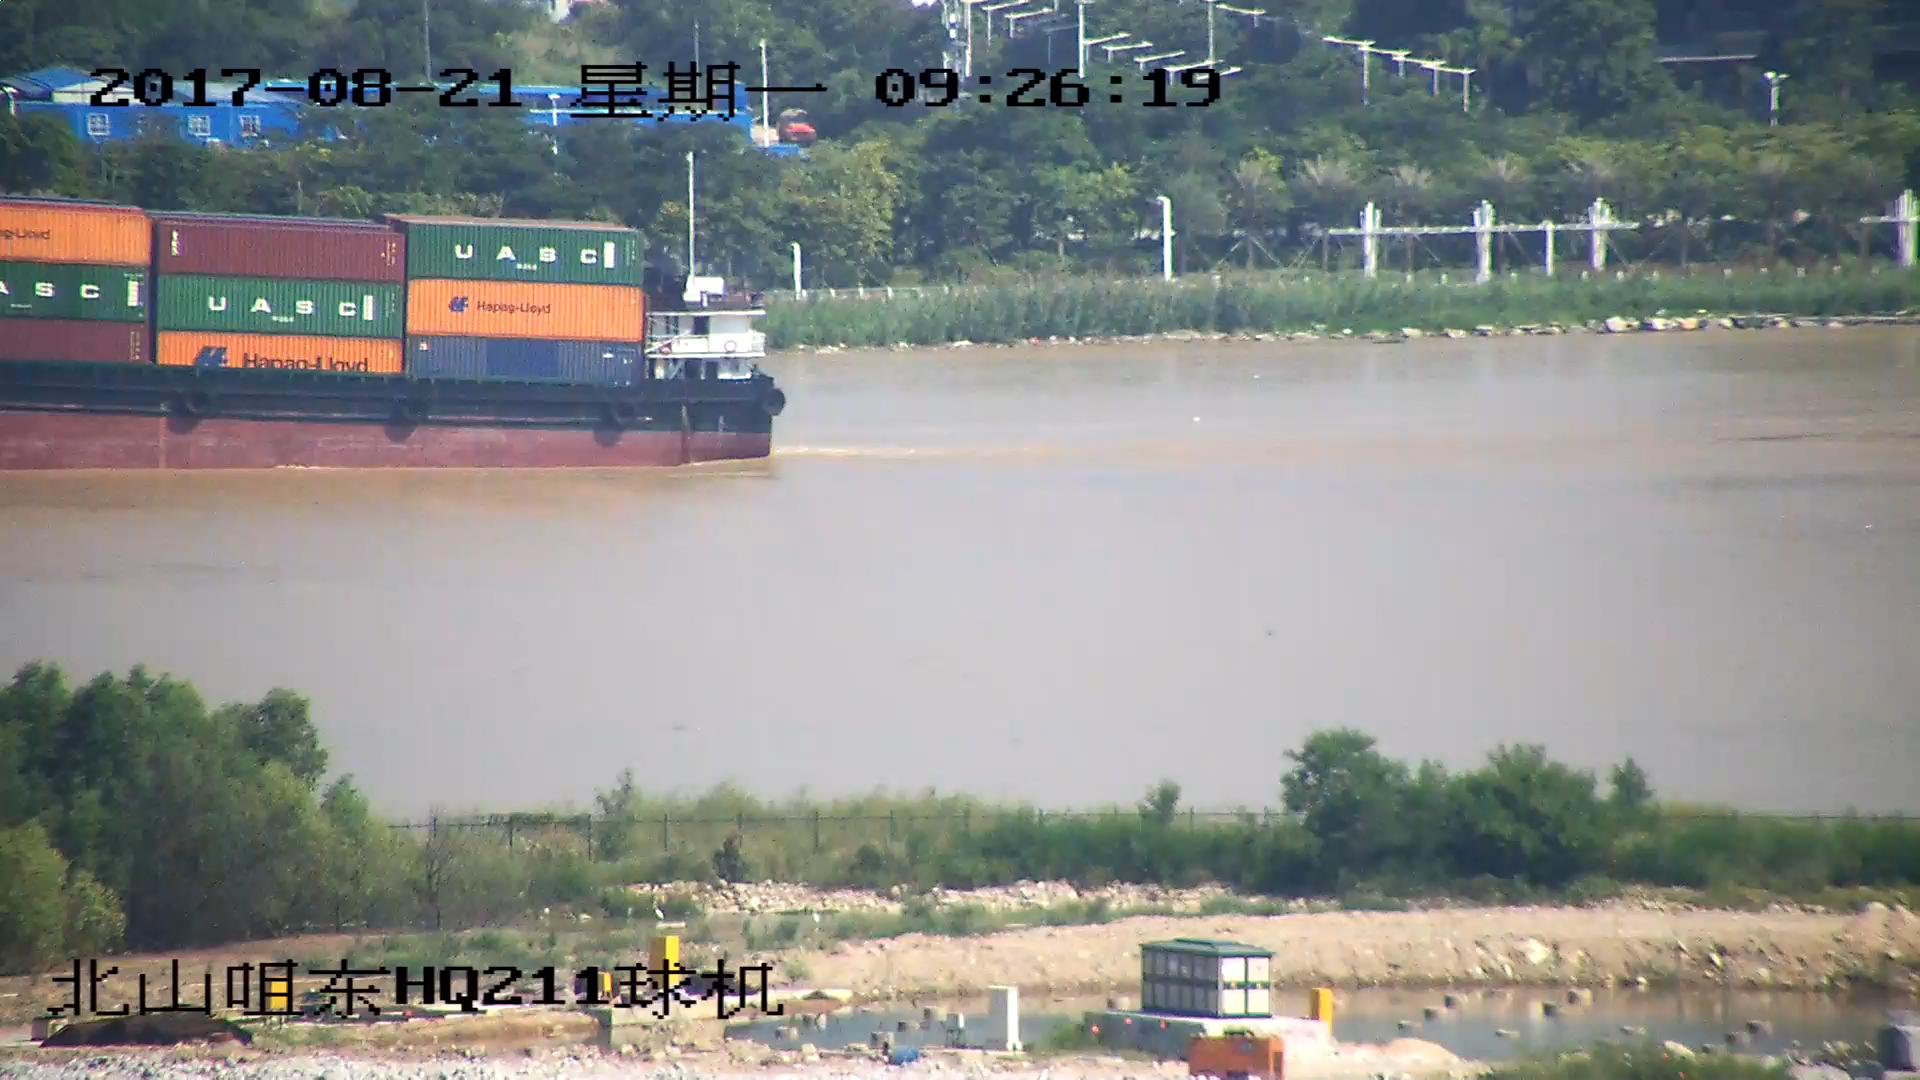container ship: (1, 156, 785, 467)
